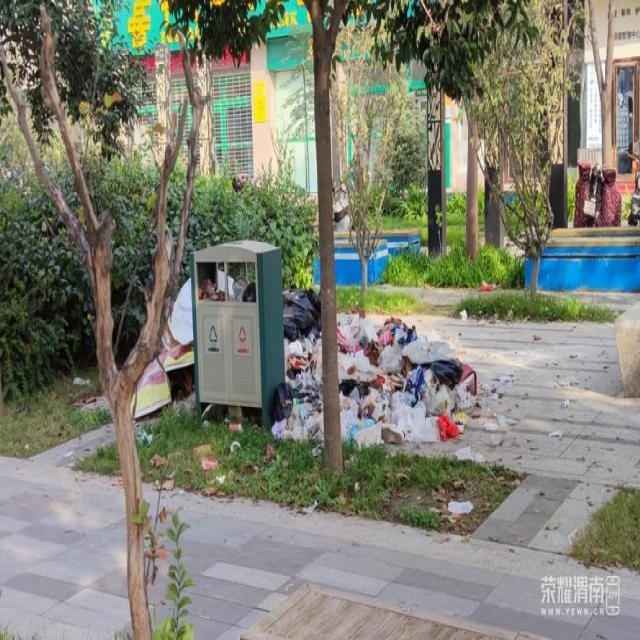garbage: (270, 284, 477, 453)
overflow: (191, 240, 283, 428)
